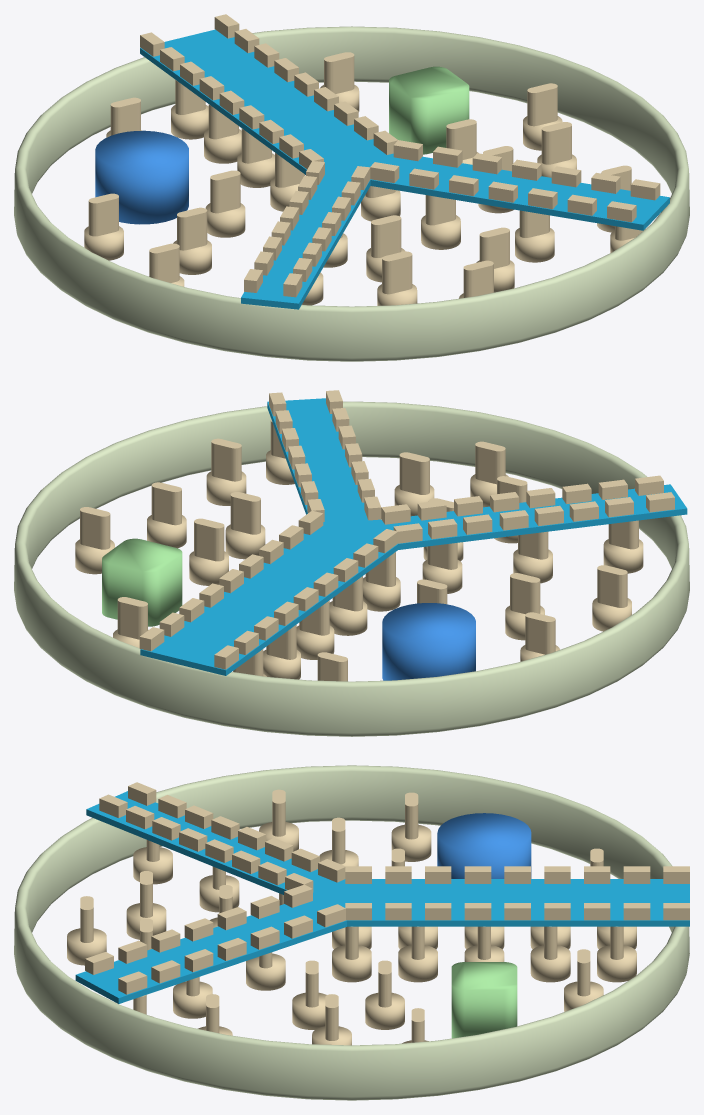
The model's file is bridge.dae.
The picture shows the model from 3 angles, top to bottom: view 1: azimuth 30°, elevation 25°; view 2: azimuth 150°, elevation 25°; view 3: azimuth 270°, elevation 25°; orthographic projection.
Visible parts, largest first — view 1: 环体; view 2: 环体; view 3: 环体.
Boxes of the visible parts, left/top/right/bottom form: 环体: left=14, top=14, right=689, bottom=361; 环体: left=14, top=390, right=689, bottom=736; 环体: left=14, top=765, right=689, bottom=1100.
Size of the model in its own units: 102 by 102 by 12.1.
